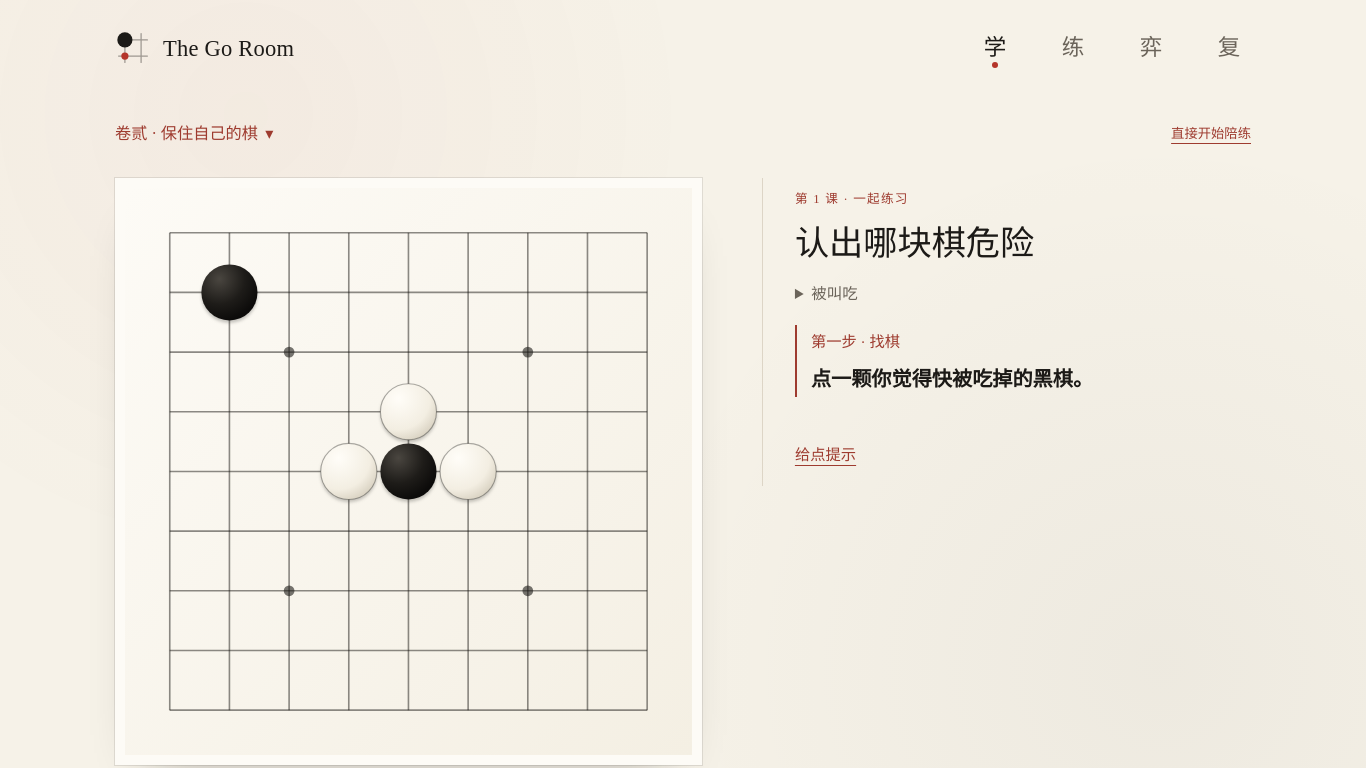
Test: 学习进度跨刷新 › 已有五课完成记录时卷壹显示 5 / 5，继续学习直接进入卷贰
Later steps or results of the test are not shown.
Check: the heading "认出哪块棋危险" is shown, box [795,225,1034,262]
Click the heading "卷贰 · 保住自己的棋 ▾" at (194, 134), box [115,125,273,143]
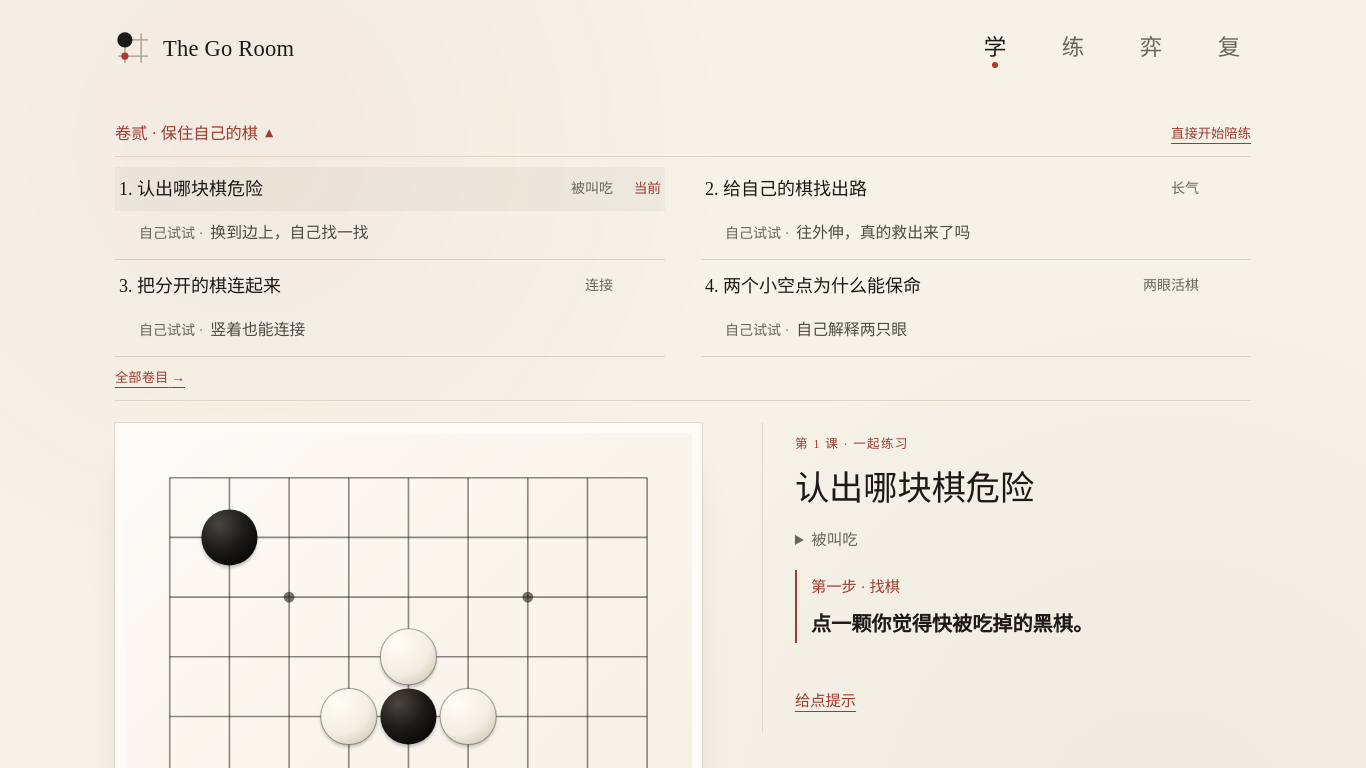
Click the button "全部卷目 →" at (150, 378), box [115,361,185,394]
(page scrolled)
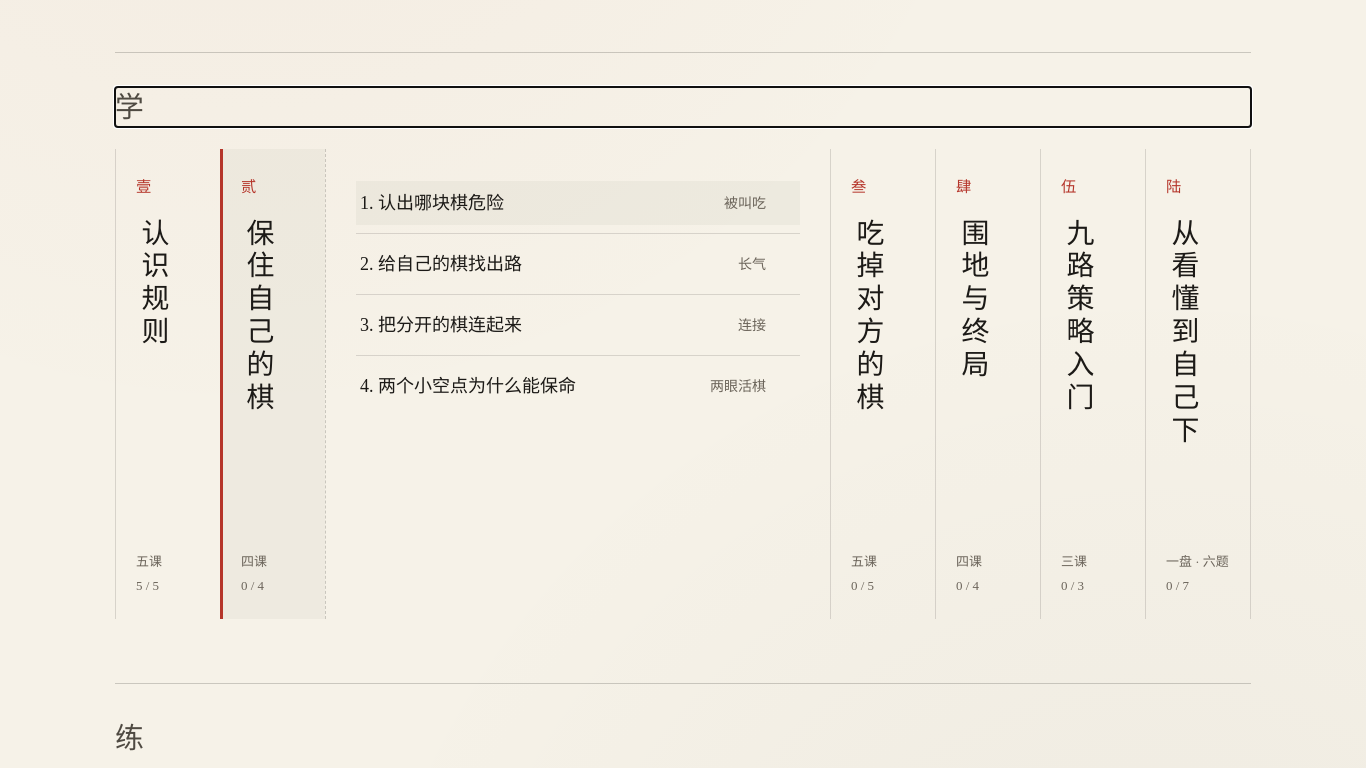
Check: the button with aria-label "第壹卷：认识规则" shows "5 / 5", box [116,149,220,619]
